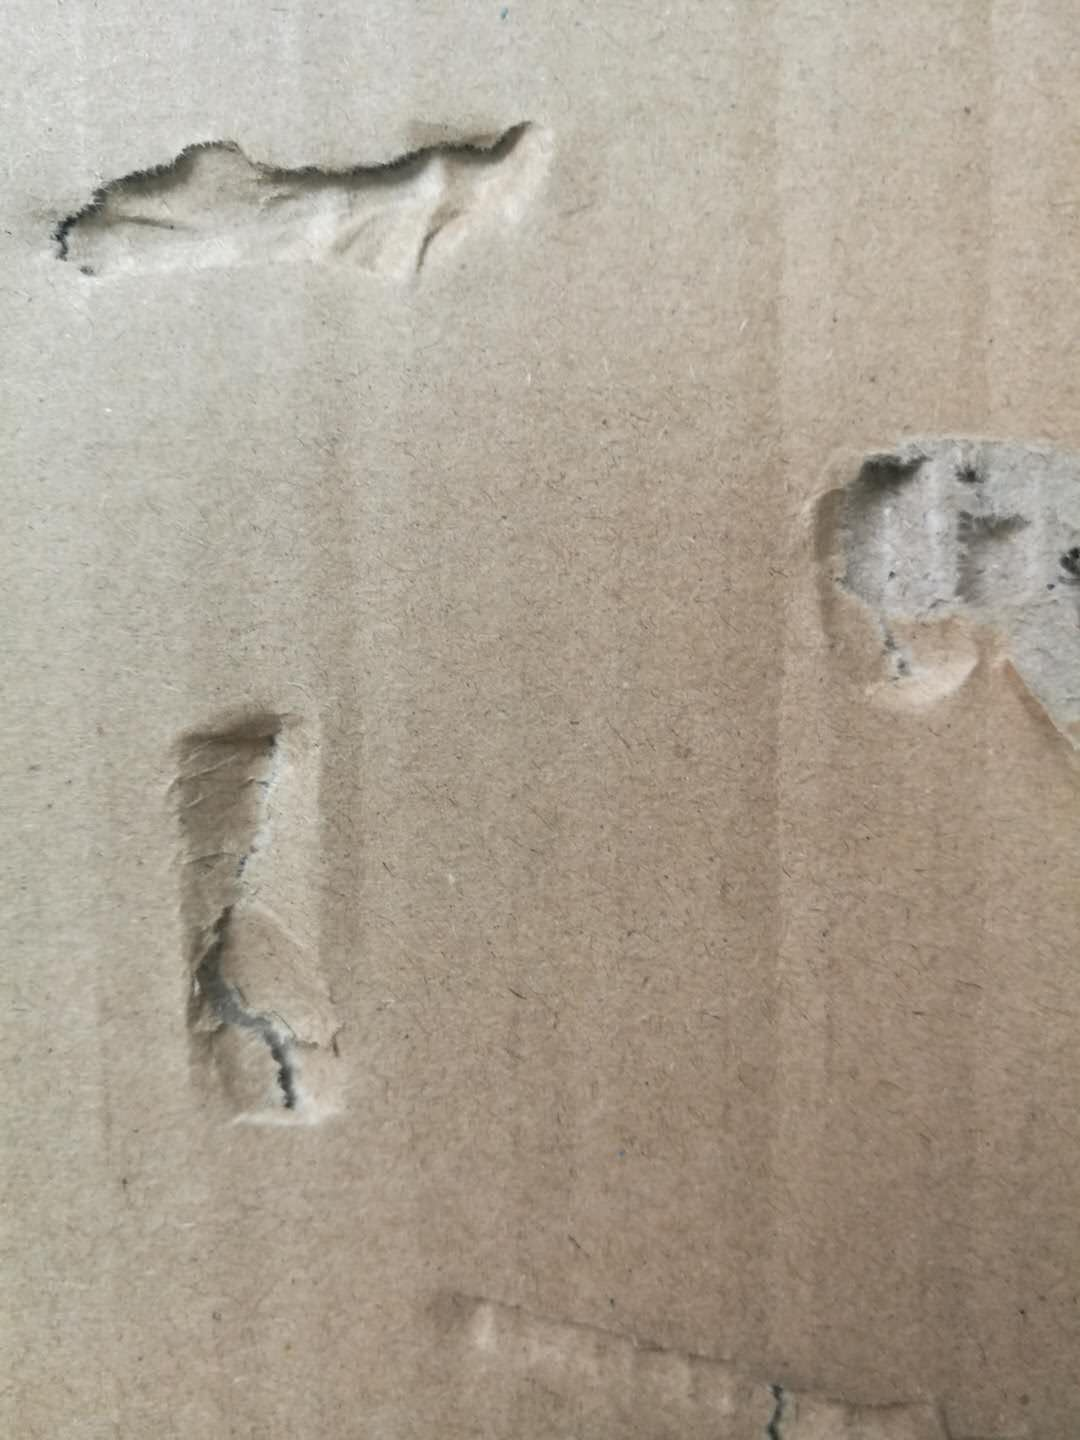defect: (712, 5, 839, 1264), (15, 82, 580, 319), (128, 661, 403, 1147), (773, 404, 1080, 779), (417, 1261, 1024, 1440), (945, 5, 1032, 1125)
